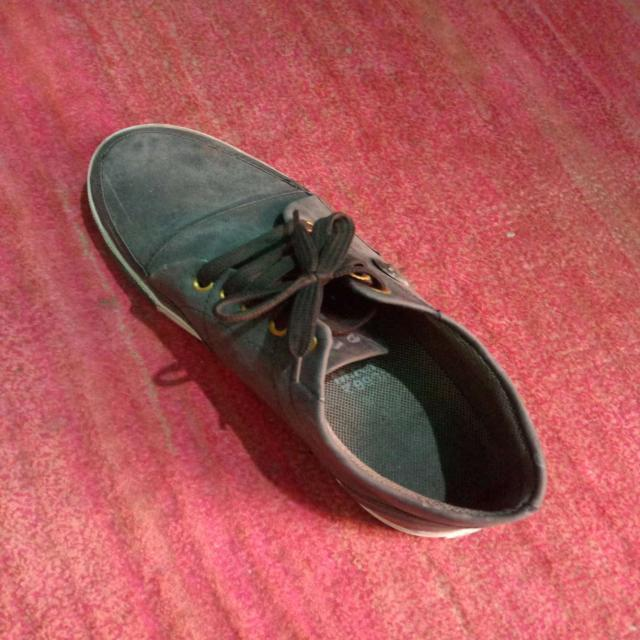shoe: (81, 122, 548, 542)
